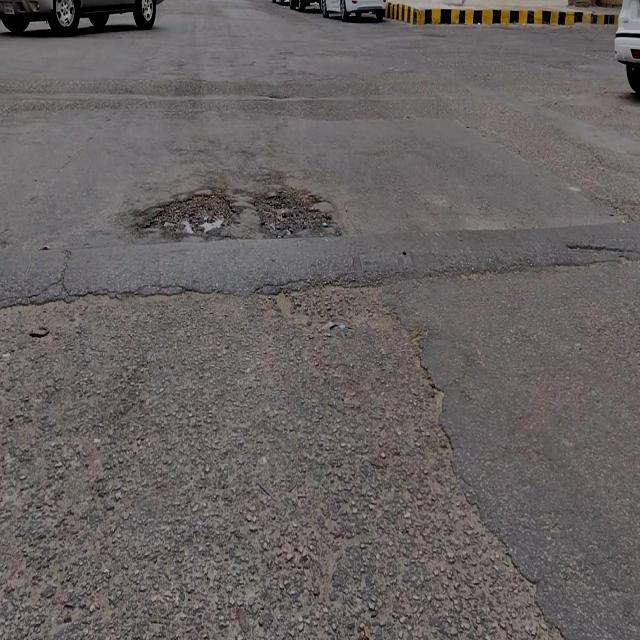Potholes: (142, 188, 233, 240), (251, 184, 339, 235)
